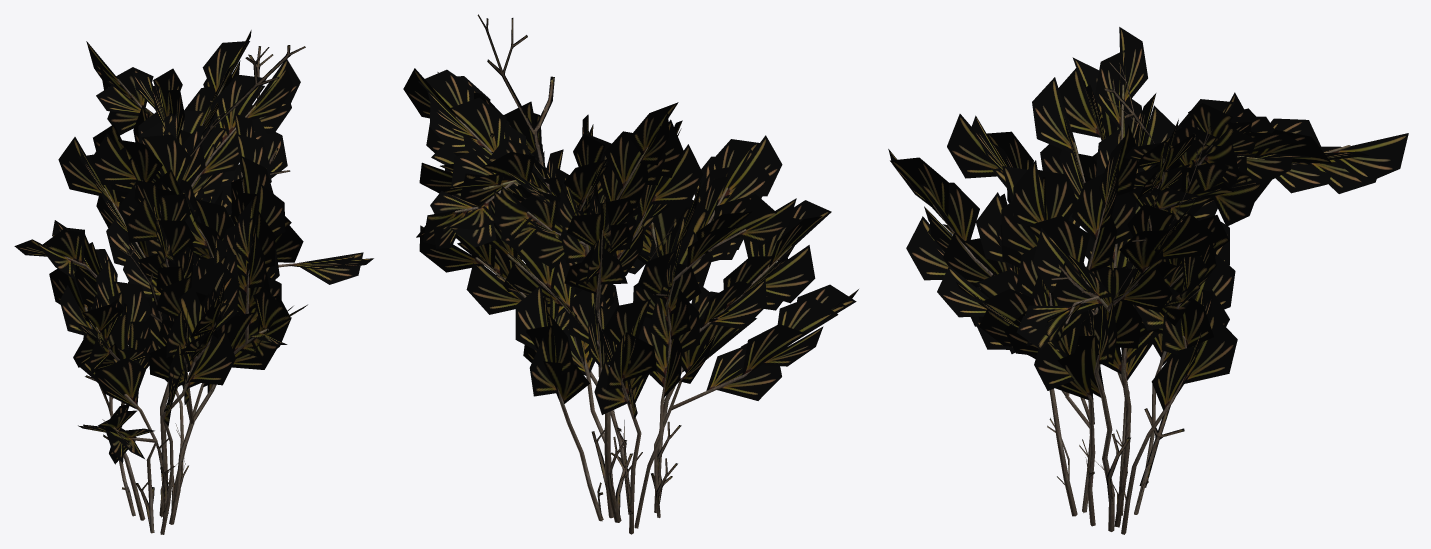
The model's file is kuru_cali_d.gltf.
3 renders of one model, left to right at view 1: azimuth 30°, elevation 25°; view 2: azimuth 150°, elevation 25°; view 3: azimuth 270°, elevation 25°, orthographic. The views are drawn at different scales.
Parts seen in each view (by area): view 1: kuru_cali_d; view 2: kuru_cali_d; view 3: kuru_cali_d.
Boxes of the visible parts, <box> form: kuru_cali_d: <box>14,30,373,534</box>; kuru_cali_d: <box>403,14,858,534</box>; kuru_cali_d: <box>888,27,1408,534</box>.
Size of the model in its own units: 0.3274 by 0.4199 by 0.3836.
3 materials, 3 textured.
